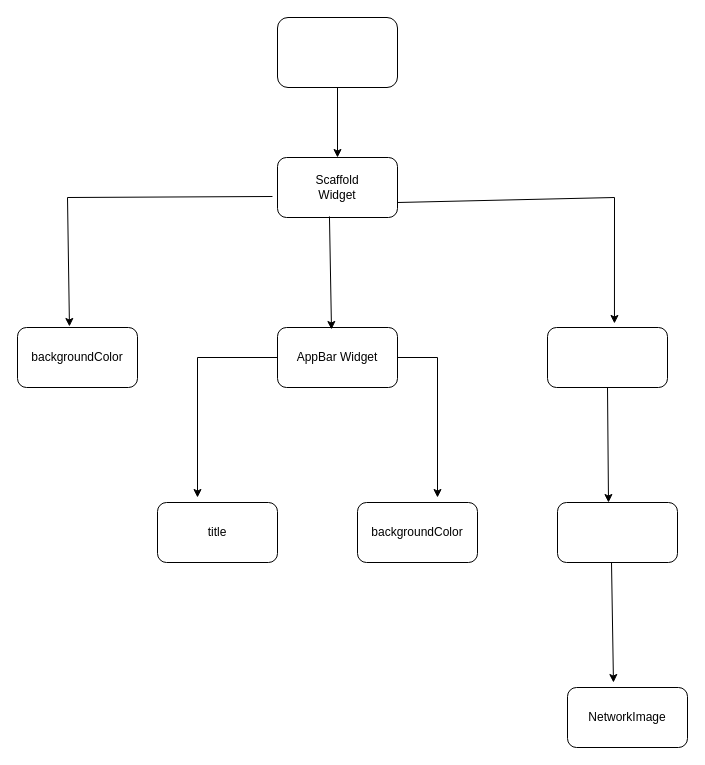
Image size: 705x765. Some labels were removed from this diagram. Here are the shapes that lost their labels. From the top down, the centre of each, then its label:
point (337, 52): Material App Widget
point (607, 357): body
point (617, 532): Image
